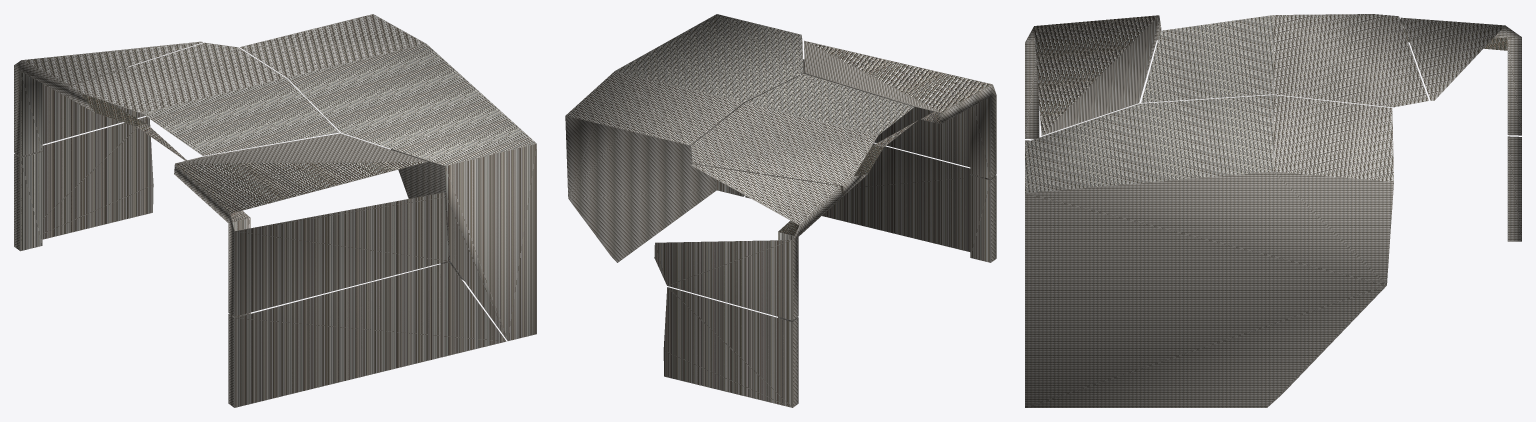
The model's file is L2Hangar2.fbx.
3 views of the same model, side by side, from view 1: azimuth 30°, elevation 25°; view 2: azimuth 150°, elevation 25°; view 3: azimuth 270°, elevation 25° (orthographic). The views are drawn at different scales.
Parts seen in each view (by area): view 1: Hangar2_cell.012, Hangar2_cell.014, Hangar2_cell.010, Hangar2_cell.006, Hangar2_cell.004, Hangar2_cell.001; view 2: Hangar2_cell.012, Hangar2_cell.006, Hangar2_cell.001, Hangar2_cell.014, Hangar2_cell.010, Hangar2_cell.004; view 3: Hangar2_cell.012, Hangar2_cell.006, Hangar2_cell.014, Hangar2_cell.001, Hangar2_cell.004.
Part boxes in pixels (bbox=[...]): Hangar2_cell.012: bbox=[240, 14, 536, 340]; Hangar2_cell.014: bbox=[174, 133, 448, 316]; Hangar2_cell.010: bbox=[228, 262, 506, 407]; Hangar2_cell.006: bbox=[68, 42, 339, 160]; Hangar2_cell.004: bbox=[14, 117, 153, 251]; Hangar2_cell.001: bbox=[14, 41, 202, 156]; Hangar2_cell.012: bbox=[565, 14, 803, 262]; Hangar2_cell.006: bbox=[691, 73, 917, 195]; Hangar2_cell.001: bbox=[654, 164, 842, 320]; Hangar2_cell.014: bbox=[801, 40, 996, 178]; Hangar2_cell.010: bbox=[745, 143, 996, 262]; Hangar2_cell.004: bbox=[663, 287, 798, 407]; Hangar2_cell.012: bbox=[1025, 95, 1393, 407]; Hangar2_cell.006: bbox=[1141, 14, 1428, 107]; Hangar2_cell.014: bbox=[1025, 15, 1161, 139]; Hangar2_cell.001: bbox=[1400, 17, 1521, 135]; Hangar2_cell.004: bbox=[1507, 136, 1521, 241].
Bounding box in the file's own units: 54.74 × 36.26 × 69.11.
